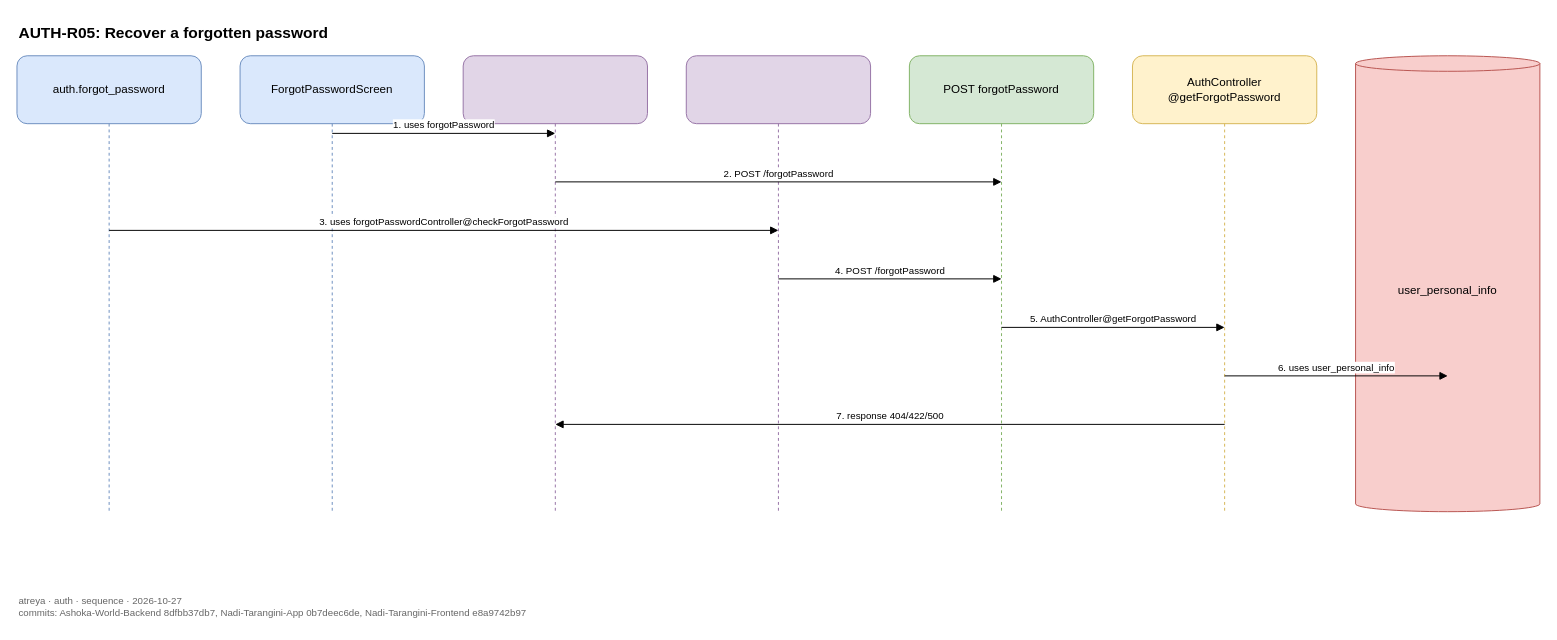
Image size: 1557x640. Some labels were removed from this diagram. The box of each missing label's shape, as (x1, y1, x2, y2) in pixels:
forgotPassword Nadi-Tarangini-App: (462, 55, 647, 512)
forgotPasswordController @checkForgotPassword Nadi-Tarangini-Frontend: (685, 55, 871, 512)
